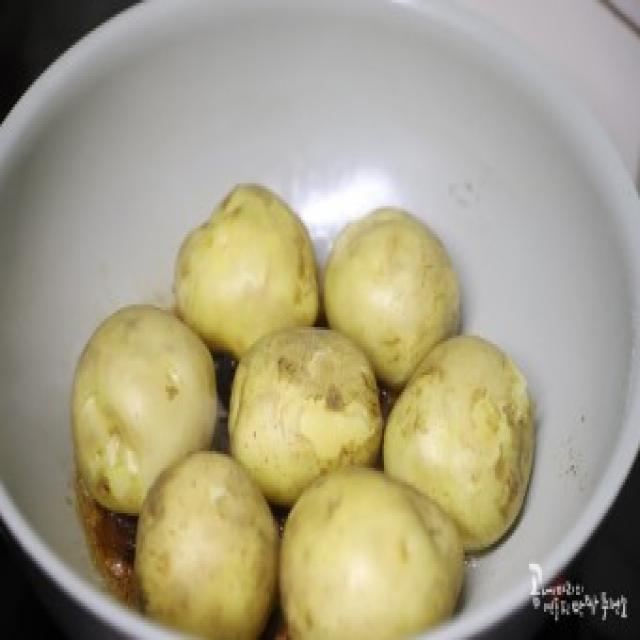potato: (276, 463, 465, 640), (384, 331, 536, 548), (69, 304, 217, 516), (132, 449, 276, 640), (230, 326, 384, 499), (324, 202, 462, 386), (175, 180, 322, 352)
